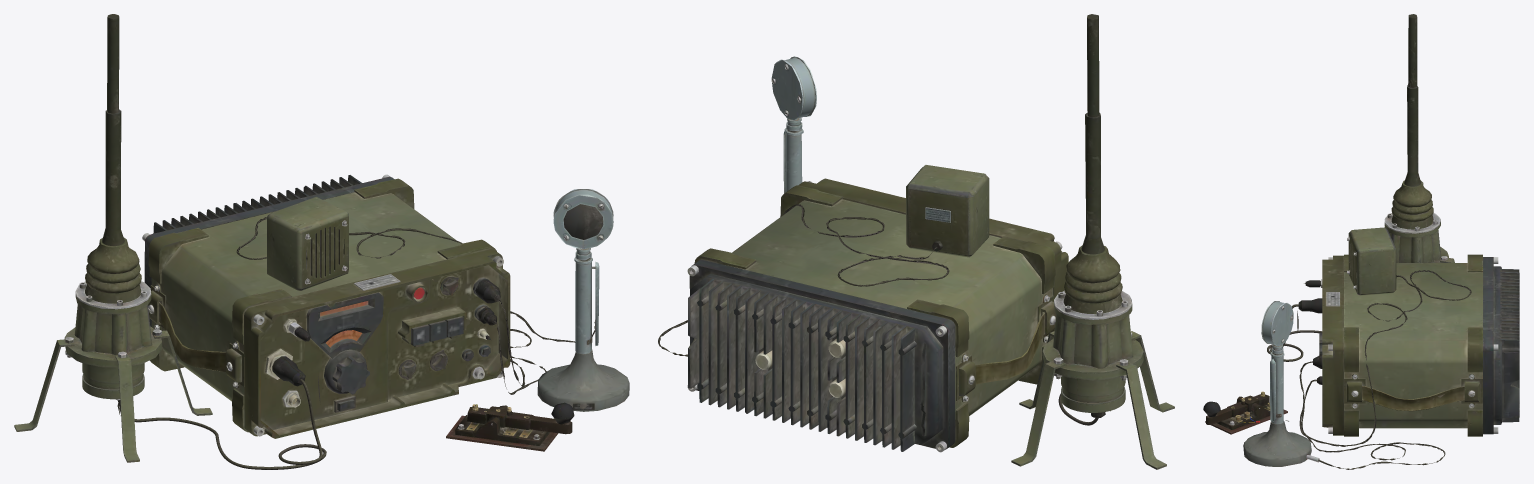
The model's file is radio.glb.
3 views of the same model, side by side, from view 1: azimuth 30°, elevation 25°; view 2: azimuth 150°, elevation 25°; view 3: azimuth 270°, elevation 25° (orthographic). The views are drawn at different scales.
Visible parts, largest first — view 1: vintage_radio_transceiver, vintage_radio_transceiver_cable; view 2: vintage_radio_transceiver, vintage_radio_transceiver_cable; view 3: vintage_radio_transceiver, vintage_radio_transceiver_cable.
Boxes of the visible parts, x1=… form: vintage_radio_transceiver: x1=142, y1=174, x2=510, y2=438; vintage_radio_transceiver_cable: x1=14, y1=14, x2=629, y2=469; vintage_radio_transceiver: x1=687, y1=178, x2=1068, y2=452; vintage_radio_transceiver_cable: x1=658, y1=14, x2=1174, y2=469; vintage_radio_transceiver: x1=1319, y1=254, x2=1519, y2=436; vintage_radio_transceiver_cable: x1=1203, y1=14, x2=1471, y2=469.
Bounding box in the file's own units: 0.574 × 0.4344 × 0.4131.
2 materials, 2 textured.
